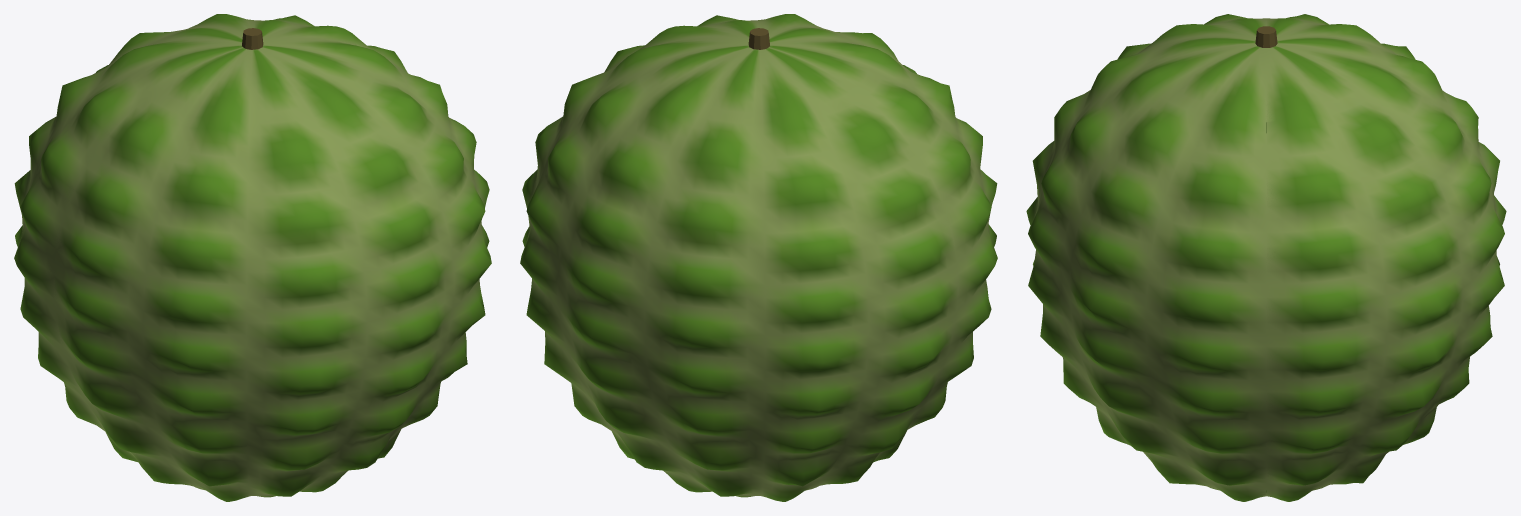
The model's file is pomme-cannelle.glb.
3 renders of one model, left to right at view 1: azimuth 30°, elevation 25°; view 2: azimuth 150°, elevation 25°; view 3: azimuth 270°, elevation 25°, orthographic.
Visible parts, largest first — view 1: entier_peau, moitie_B_peau, moitie_A_peau; view 2: entier_peau, moitie_A_peau, moitie_B_peau; view 3: entier_peau, moitie_A_peau, moitie_B_peau.
Boxes of the visible parts, <box> form: entier_peau: <box>14,14,491,501</box>; moitie_B_peau: <box>54,39,486,501</box>; moitie_A_peau: <box>15,14,404,460</box>; entier_peau: <box>520,14,997,501</box>; moitie_A_peau: <box>520,38,956,501</box>; moitie_B_peau: <box>608,18,996,461</box>; entier_peau: <box>1026,14,1506,501</box>; moitie_A_peau: <box>1266,18,1505,501</box>; moitie_B_peau: <box>1030,24,1266,501</box>.
Bounding box in the file's own units: 1.99 × 2.06 × 1.99.
